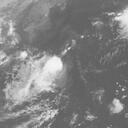cyclone: (46, 56, 63, 77)
